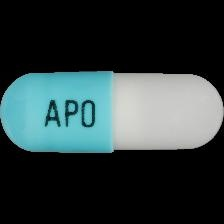50090-0595: (0, 0, 224, 224)
